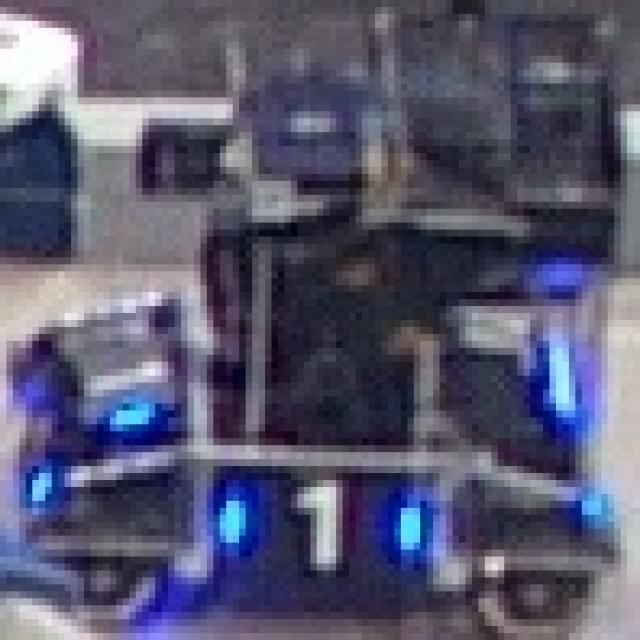B1: (213, 473, 427, 570)
